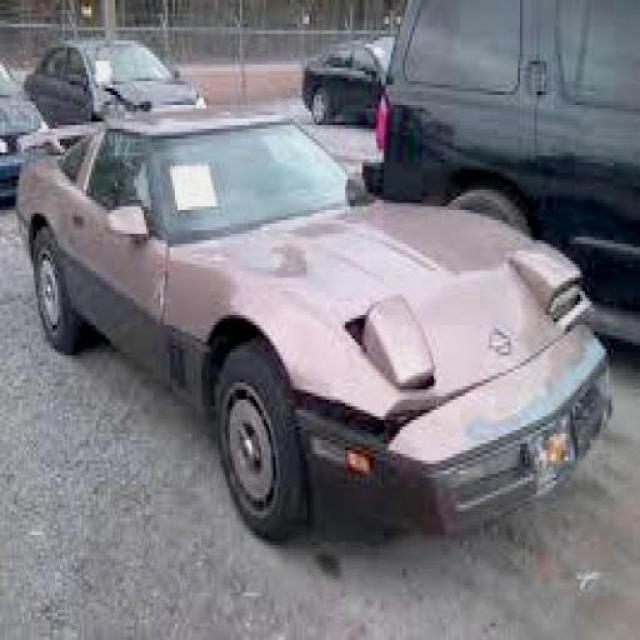car damage: (470, 335, 612, 449), (300, 377, 465, 462)
